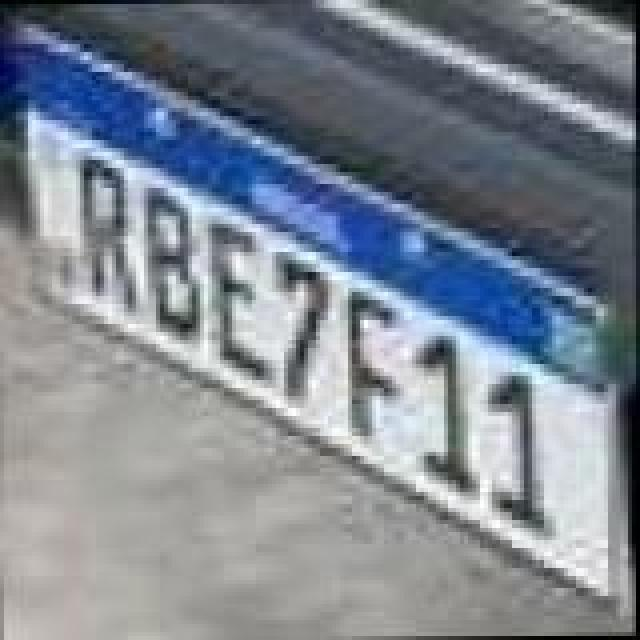1: (480, 368, 560, 544), (408, 328, 488, 500)
7: (268, 246, 336, 402)
B: (140, 184, 208, 348)
E: (208, 220, 284, 384)
F: (340, 286, 408, 442)
R: (74, 154, 142, 318)
